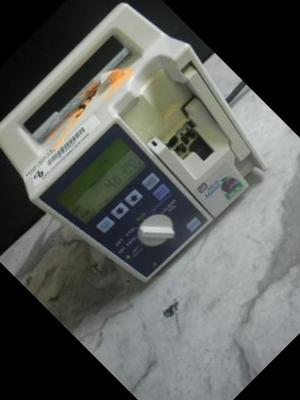plumxl1: (8, 14, 272, 278)
